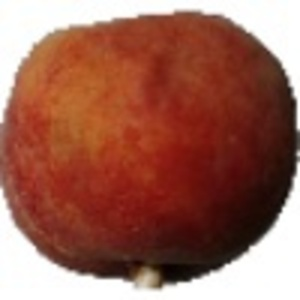pêssego: (1, 9, 300, 292)
